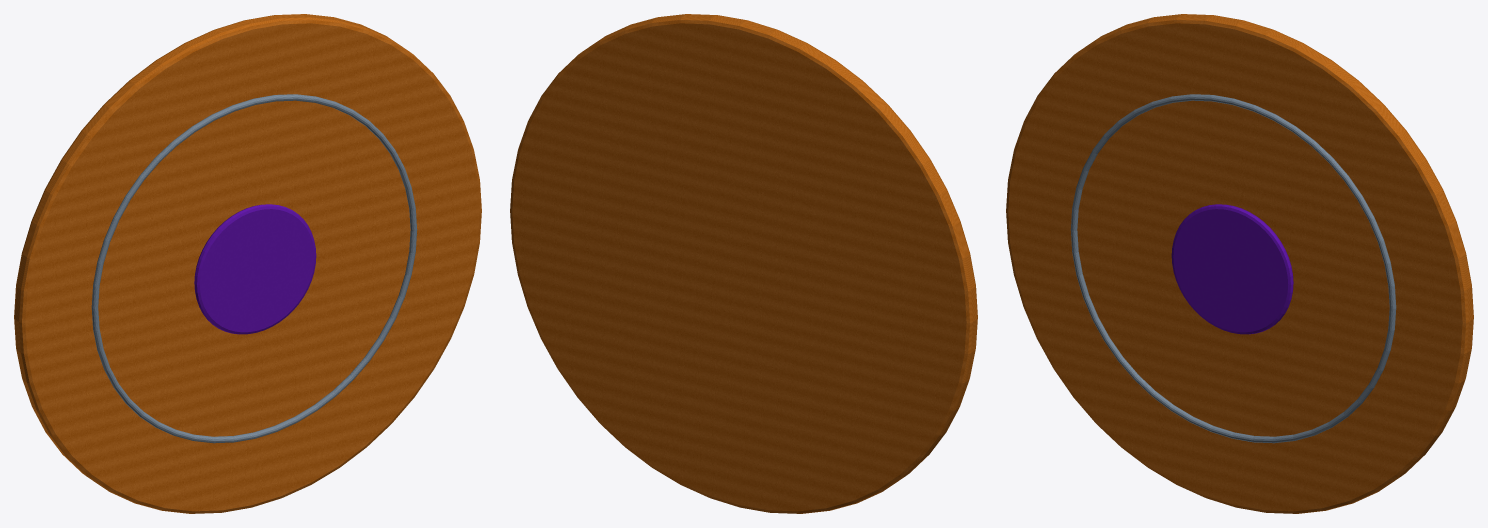
The model's file is disque-or-unique.glb.
3 renders of one model, left to right at view 1: azimuth 30°, elevation 25°; view 2: azimuth 150°, elevation 25°; view 3: azimuth 330°, elevation 25°, orthographic.
Parts seen in each view (by area): view 1: Disque, Label, Sillon; view 2: Disque; view 3: Disque, Label, Sillon.
Part boxes in pixels (left/top/right/bottom): Disque: left=14, top=14, right=481, bottom=513; Label: left=194, top=204, right=316, bottom=334; Sillon: left=91, top=94, right=417, bottom=443; Disque: left=510, top=14, right=977, bottom=513; Disque: left=1006, top=14, right=1473, bottom=513; Label: left=1171, top=204, right=1293, bottom=334; Sillon: left=1070, top=94, right=1396, bottom=443.
Size of the model in its own units: 2.9 by 2.9 by 0.15.
Materials: 3 (3 with a texture image).
